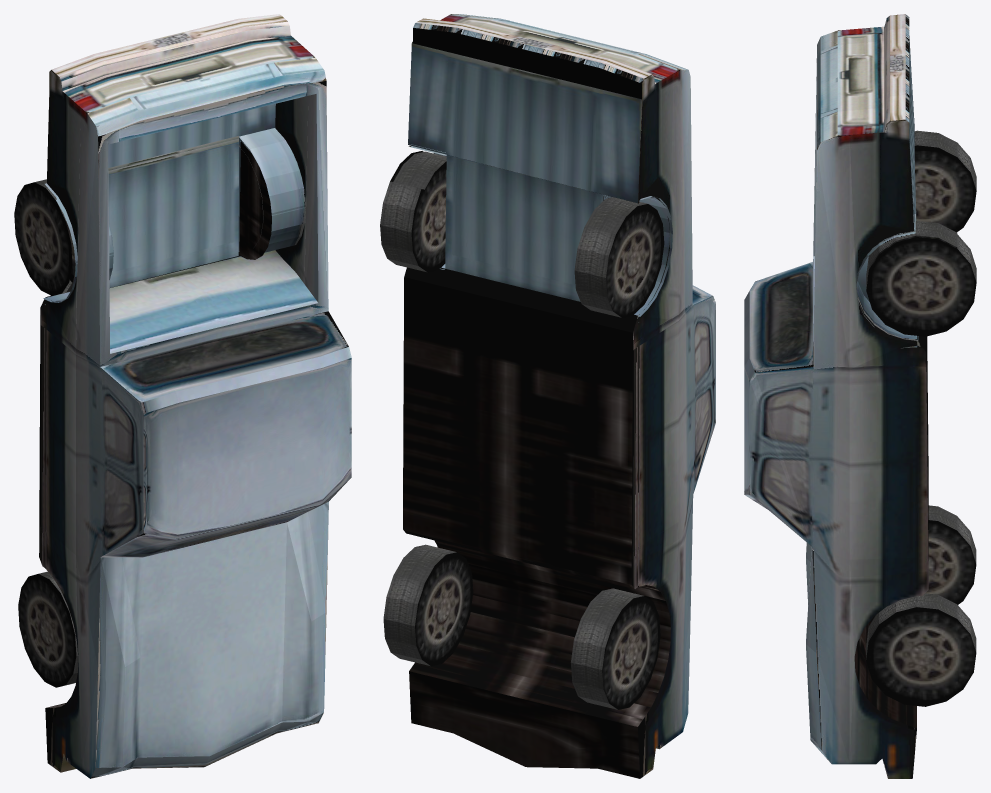
File: carpack_pickup_wtf.obj
The picture shows the model from 3 angles, left to right: view 1: azimuth 30°, elevation 25°; view 2: azimuth 150°, elevation 25°; view 3: azimuth 270°, elevation 25°; orthographic projection. The views are drawn at different scales.
Parts seen in each view (by area): view 1: group2; view 2: group2; view 3: group2.
Part boxes in pixels (bbox=[...]): group2: bbox=[14, 14, 351, 778]; group2: bbox=[380, 14, 715, 778]; group2: bbox=[744, 14, 976, 778].
Size of the model in its own units: 230 by 660 by 204.
